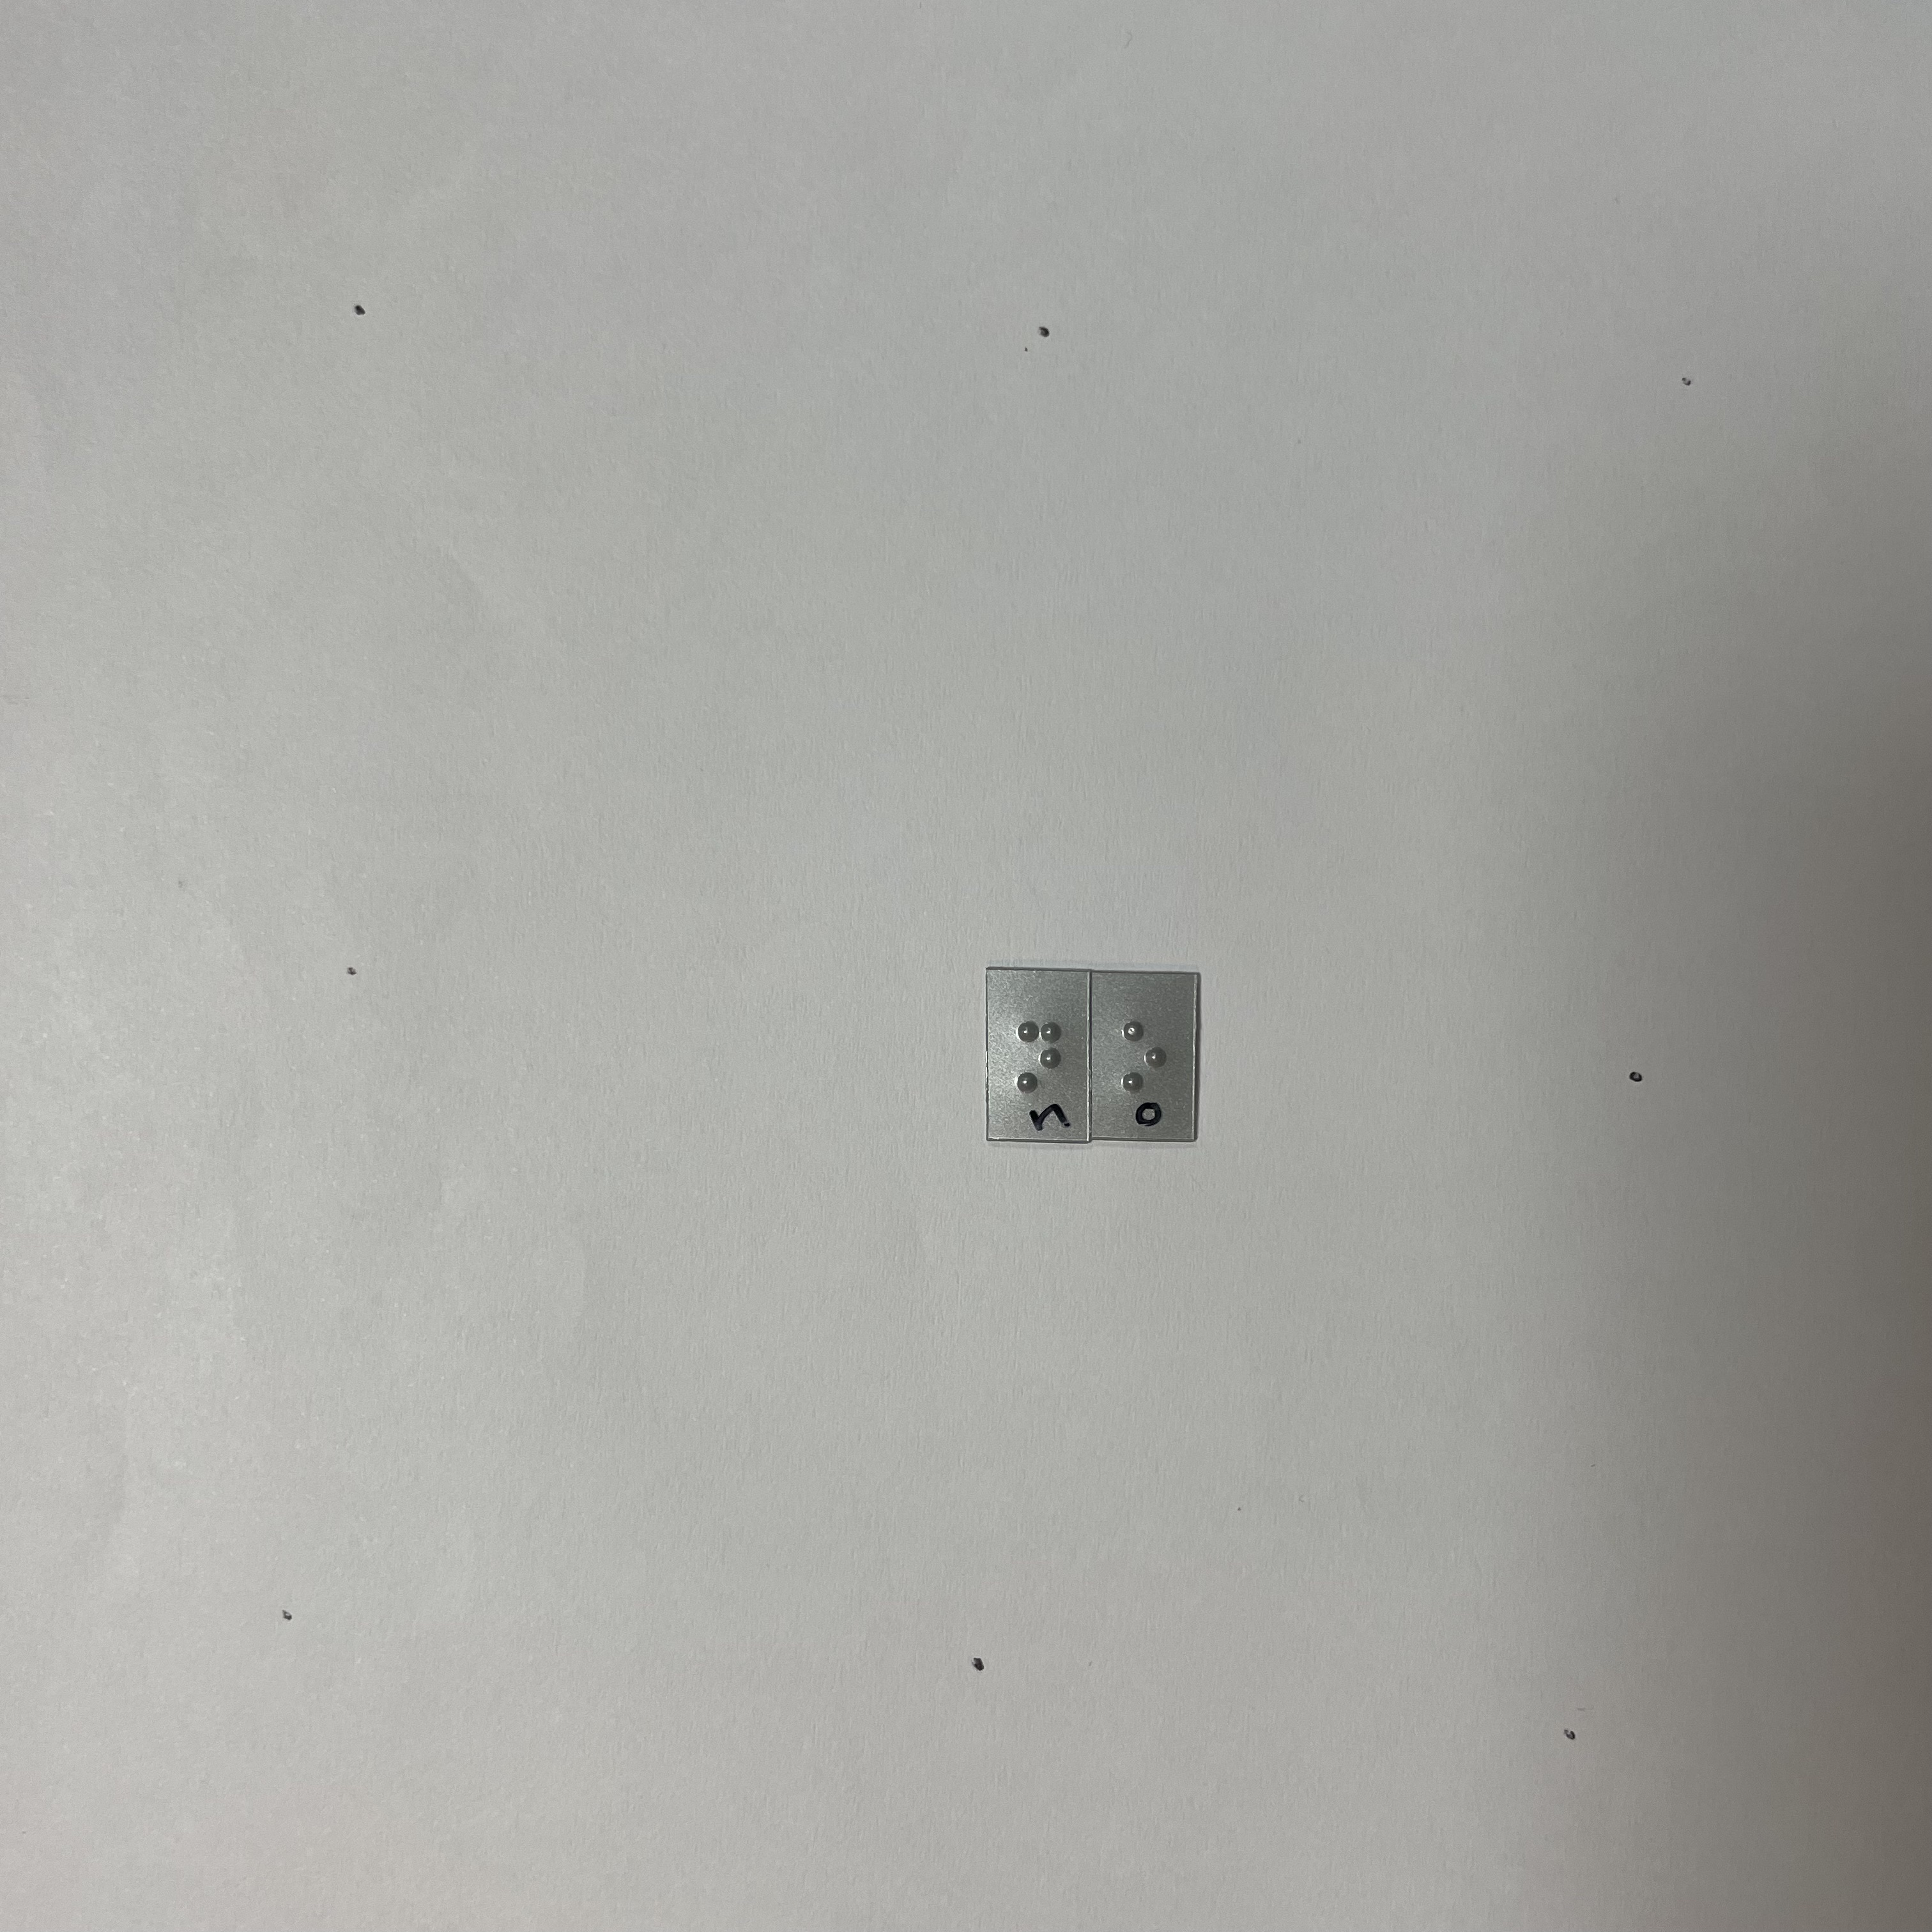n: (1008, 1006, 1072, 1103)
o: (1115, 1006, 1179, 1101)
